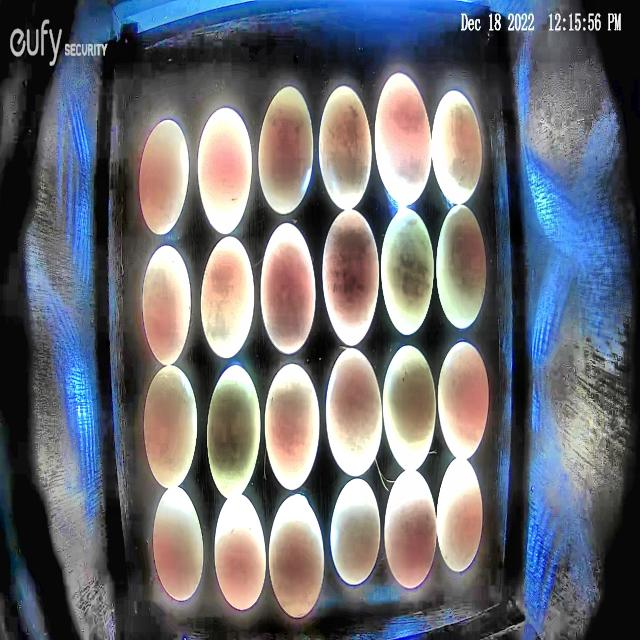UF: (322, 208, 380, 348), (373, 70, 432, 206), (259, 222, 318, 356), (325, 344, 384, 478), (257, 86, 315, 215), (264, 361, 322, 490), (198, 105, 254, 236), (382, 342, 438, 473), (208, 365, 262, 500), (267, 494, 325, 619), (318, 84, 374, 212), (200, 234, 256, 362), (381, 205, 434, 336), (142, 366, 198, 489), (383, 468, 437, 590), (435, 204, 487, 330), (213, 494, 268, 610), (138, 117, 190, 238), (141, 243, 192, 366), (437, 341, 489, 460), (153, 487, 206, 603), (433, 88, 483, 206), (436, 456, 484, 576), (330, 478, 382, 586)
